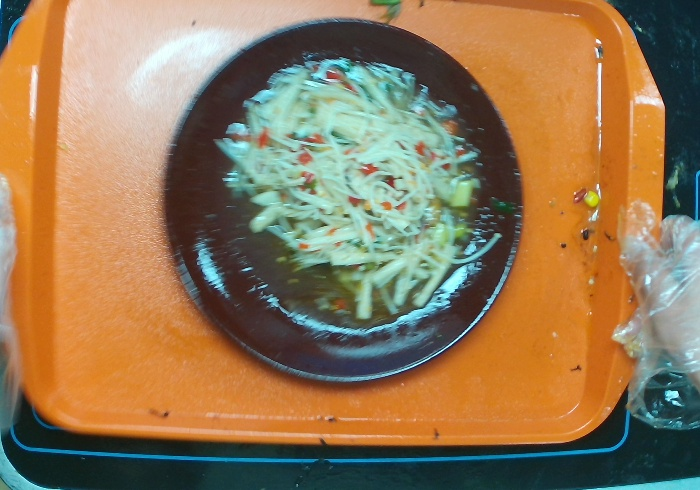HZYJPL-Ka_Fei_Yuan_Pan: (161, 15, 525, 384)
